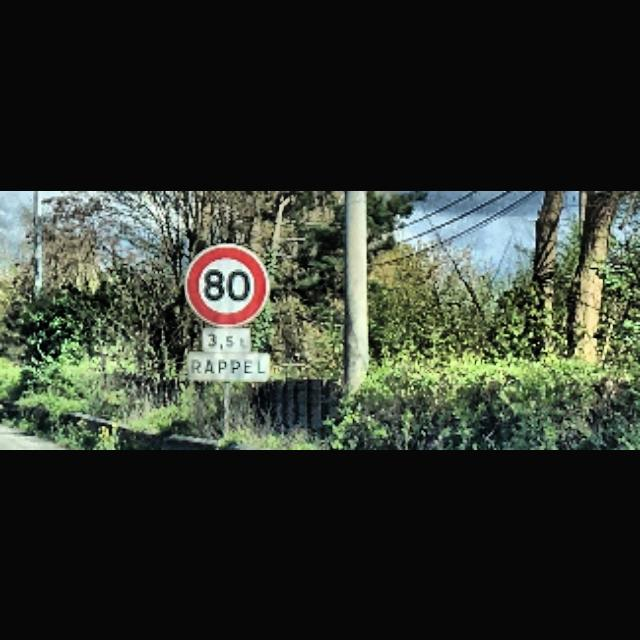speed_80: (185, 242, 272, 328)
